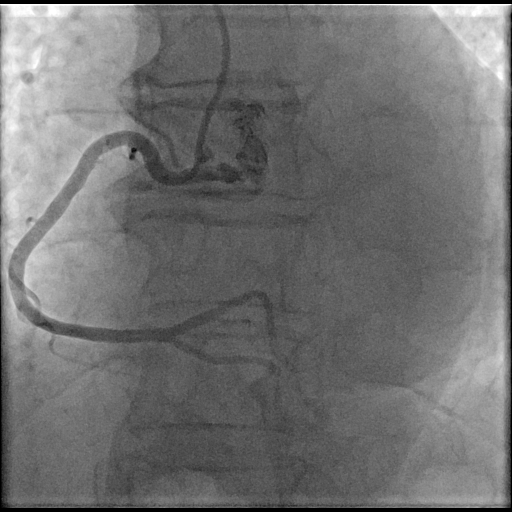RCA: (7, 132, 281, 363)
catherter: (193, 6, 228, 166)
